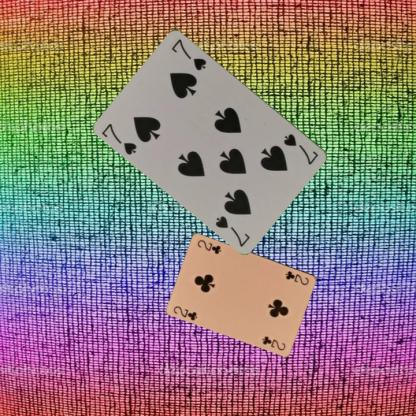2c: (171, 303, 199, 322), (283, 268, 310, 287)
7s: (98, 120, 138, 156), (282, 132, 320, 166)
